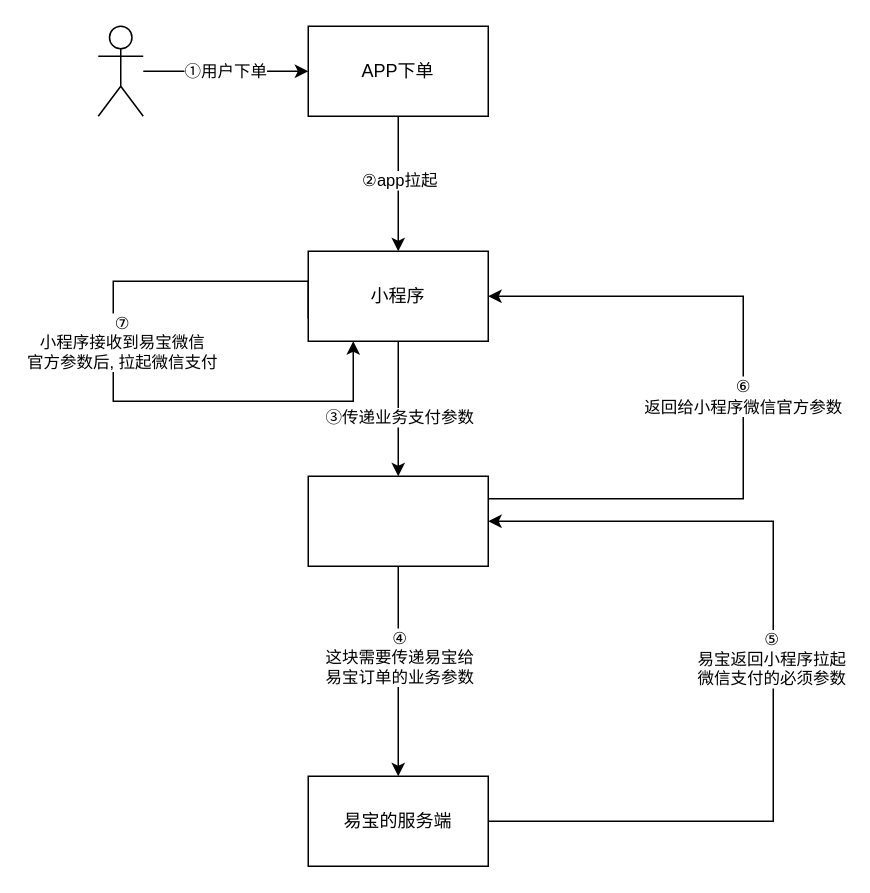
This 870x893 diagram has some shape labels left out. The shapes that lost their labels are listed below. From the top down, each one's centre as x and y in pixels, then its label:
the point at 120,70: Actor
the point at 397,520: 自己的服务端
